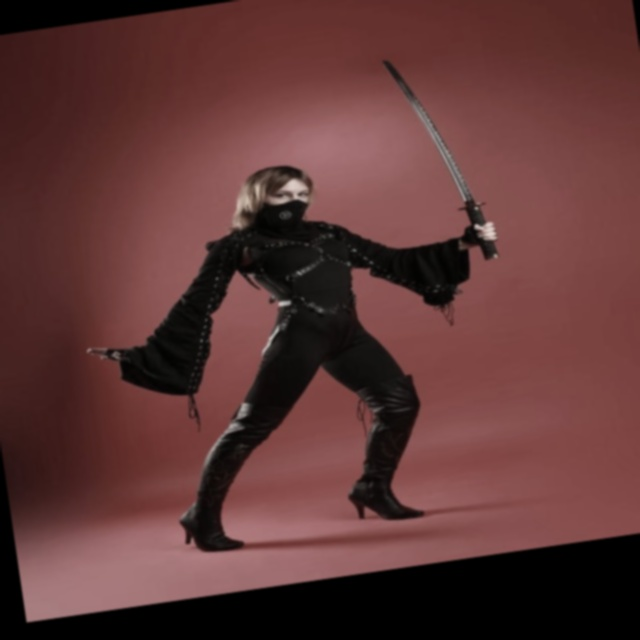Sharp-Object: (376, 44, 502, 265)
